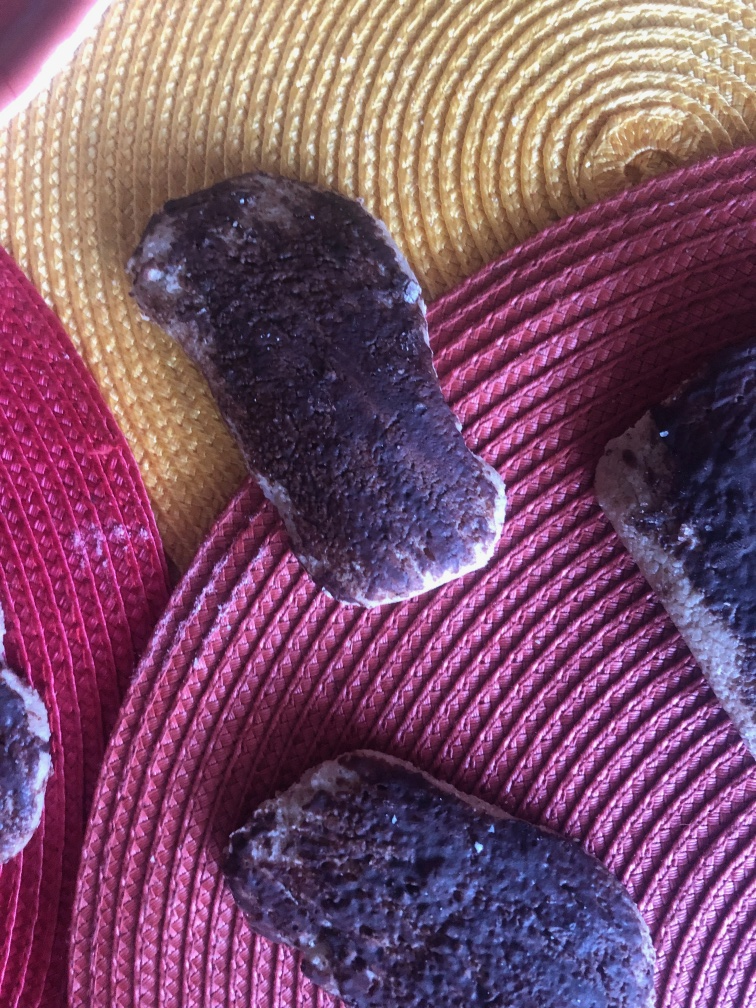weird #1: (124, 162, 504, 613), (214, 754, 663, 1008), (591, 364, 756, 771)
